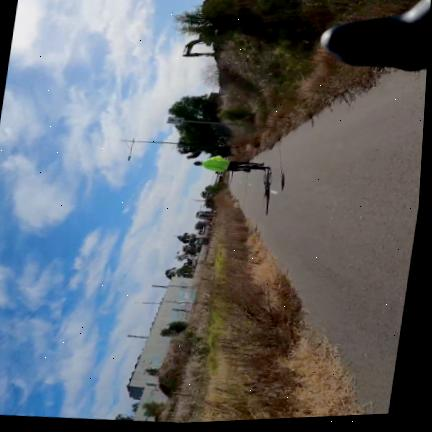Bike_Lane: (231, 72, 427, 414)
